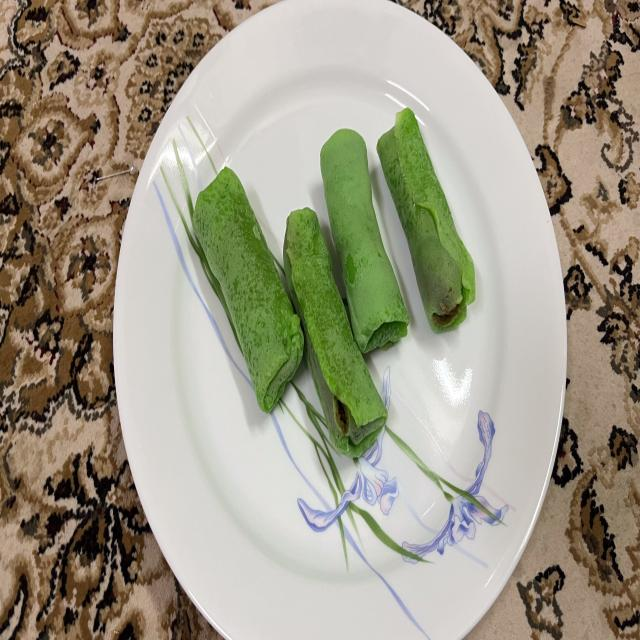Kuih-Ketayap: (192, 167, 304, 413), (284, 209, 388, 458), (378, 109, 475, 333), (320, 129, 409, 353)
